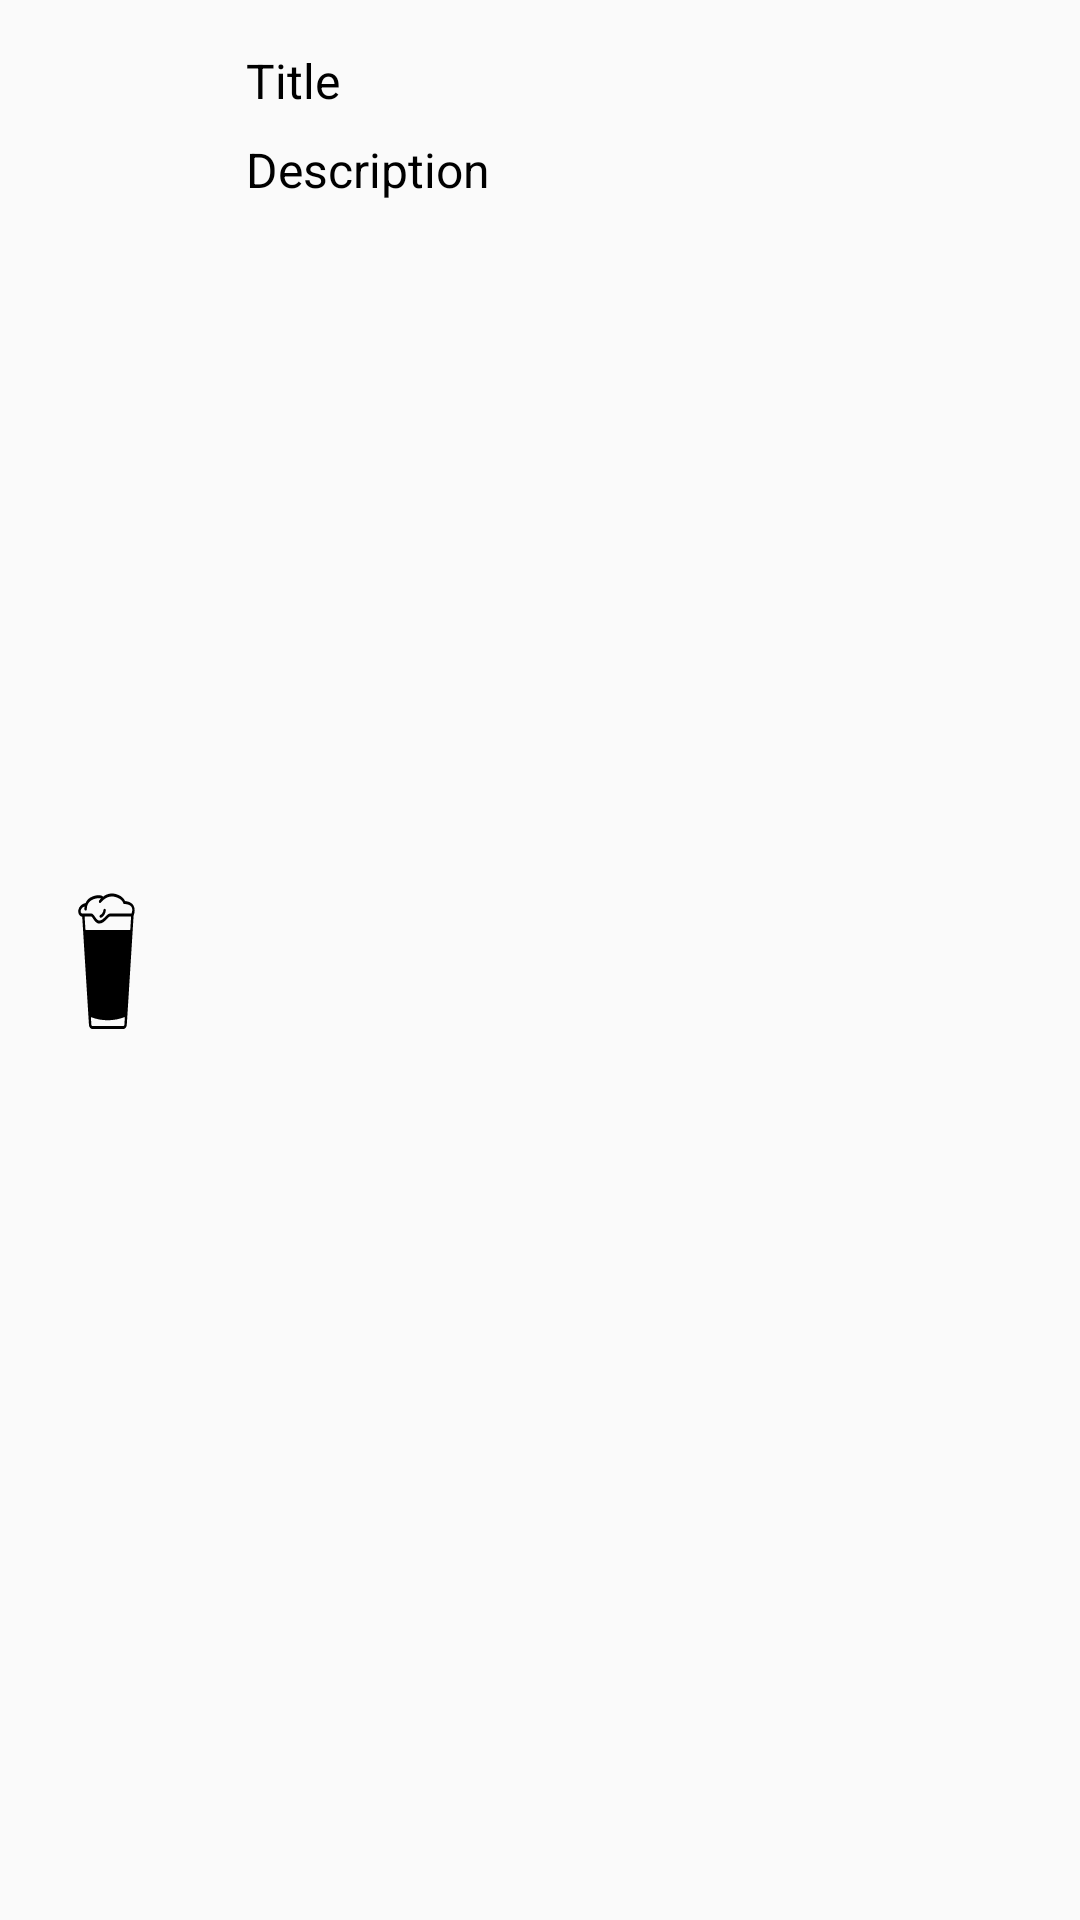

Icons on this 1080 x 1920 Android screen, each with the point to tap as [x,y]:
beers: [106,961]
